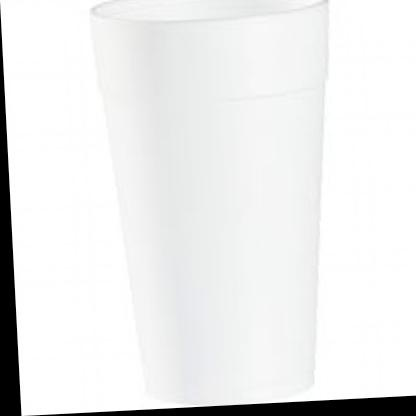trash: (92, 0, 326, 404)
